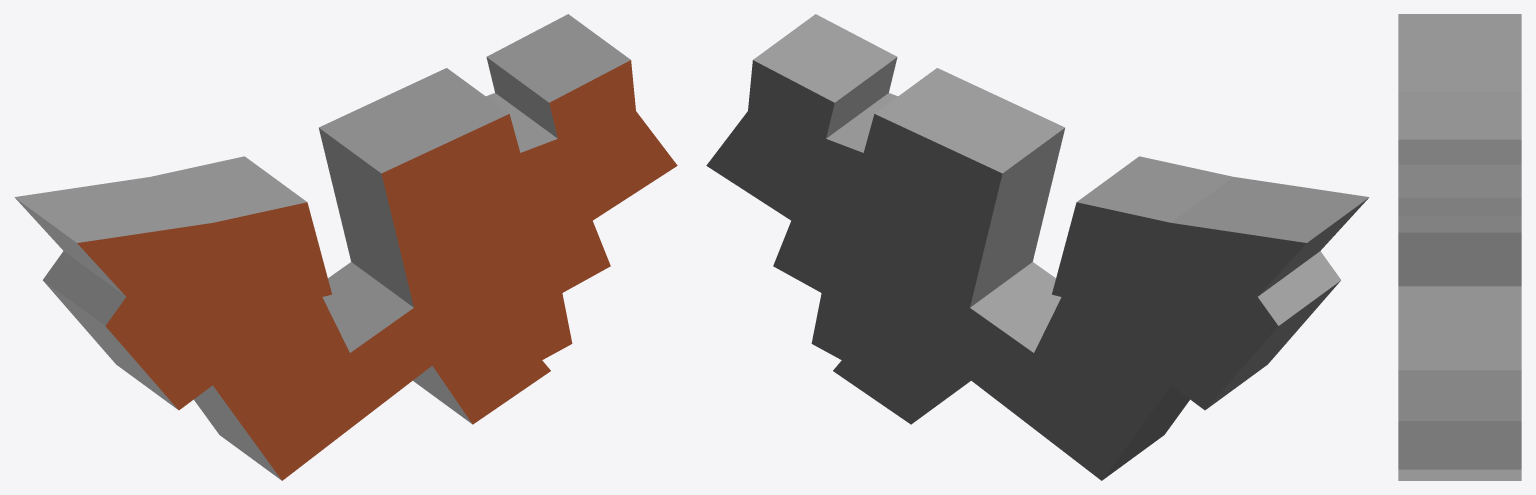
Rendered from construction_4853_assumed_A_Casa_h6m.obj.
The picture shows the model from 3 angles, left to right: view 1: azimuth 30°, elevation 25°; view 2: azimuth 150°, elevation 25°; view 3: azimuth 270°, elevation 25°; orthographic projection.
Visible parts, largest first — view 1: construction_4853_assumed_A_Casa; view 2: construction_4853_assumed_A_Casa; view 3: construction_4853_assumed_A_Casa.
Part boxes in pixels (bbox=[...]): construction_4853_assumed_A_Casa: bbox=[14, 14, 677, 480]; construction_4853_assumed_A_Casa: bbox=[706, 14, 1369, 480]; construction_4853_assumed_A_Casa: bbox=[1398, 14, 1521, 480].
Size of the model in its own units: 33.13 by 17.7 by 6.
